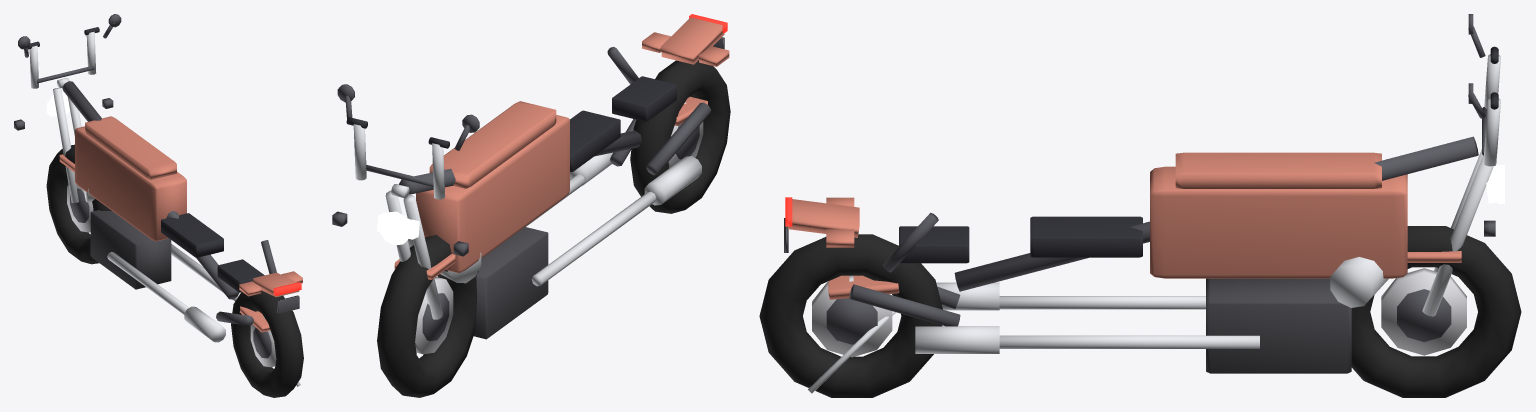
Rendered from bike_chopper.glb.
3 views of the same model, side by side, from view 1: azimuth 30°, elevation 25°; view 2: azimuth 150°, elevation 25°; view 3: azimuth 270°, elevation 25° (orthographic). The views are drawn at different scales.
Visible parts, largest first — view 1: Tank, Tire1, Engine, TankTop, Tire0, Seat, FrameMain, ExhPipe-1, SeatRear, Fork-1, ExhCan-1, Tail (+12 smaller); view 2: Tank, Tire0, Tire1, Engine, TankTop, Seat, SeatRear, ExhPipe-1, Tail, ExhCan-1, Swingarm_R, Fork-1 (+16 smaller); view 3: Tank, Tire1, Tire0, Engine, TankTop, Seat, FrameMain, ExhPipe1, Rim0, ExhPipe-1, ExhCan1, SeatRear (+12 smaller).
Boxes of the visible parts, x1,y1,x2,y2 form: Tank: [75, 126, 186, 241]; Tire1: [231, 290, 303, 397]; Engine: [90, 210, 171, 289]; TankTop: [85, 116, 176, 179]; Tire0: [46, 144, 111, 264]; Seat: [161, 213, 223, 257]; FrameMain: [62, 81, 239, 299]; ExhPipe-1: [107, 252, 189, 314]; SeatRear: [217, 259, 264, 292]; Fork-1: [53, 88, 78, 202]; ExhCan-1: [184, 306, 225, 342]; Tail: [253, 272, 299, 297]; Tank: [416, 115, 569, 272]; Tire0: [377, 235, 478, 397]; Tire1: [630, 60, 730, 213]; Engine: [437, 227, 548, 339]; TankTop: [429, 101, 556, 188]; Seat: [570, 110, 620, 171]; SeatRear: [612, 76, 676, 121]; ExhPipe-1: [531, 191, 656, 286]; Tail: [661, 17, 724, 64]; ExhCan-1: [644, 156, 701, 205]; Swingarm_R: [646, 102, 710, 175]; Fork-1: [403, 195, 442, 319]; Tank: [1150, 166, 1407, 278]; Tire1: [759, 234, 942, 397]; Tire0: [1351, 226, 1521, 397]; Engine: [1206, 278, 1351, 373]; TankTop: [1175, 152, 1381, 188]; Seat: [1030, 216, 1142, 257]; FrameMain: [954, 136, 1478, 291]; ExhPipe1: [999, 335, 1259, 348]; Rim0: [1381, 268, 1466, 355]; ExhPipe-1: [943, 296, 1205, 309]; ExhCan1: [915, 326, 999, 353]; SeatRear: [899, 226, 969, 263].
Size of the model in its own units: 0.7856 by 1.64 by 3.25.
